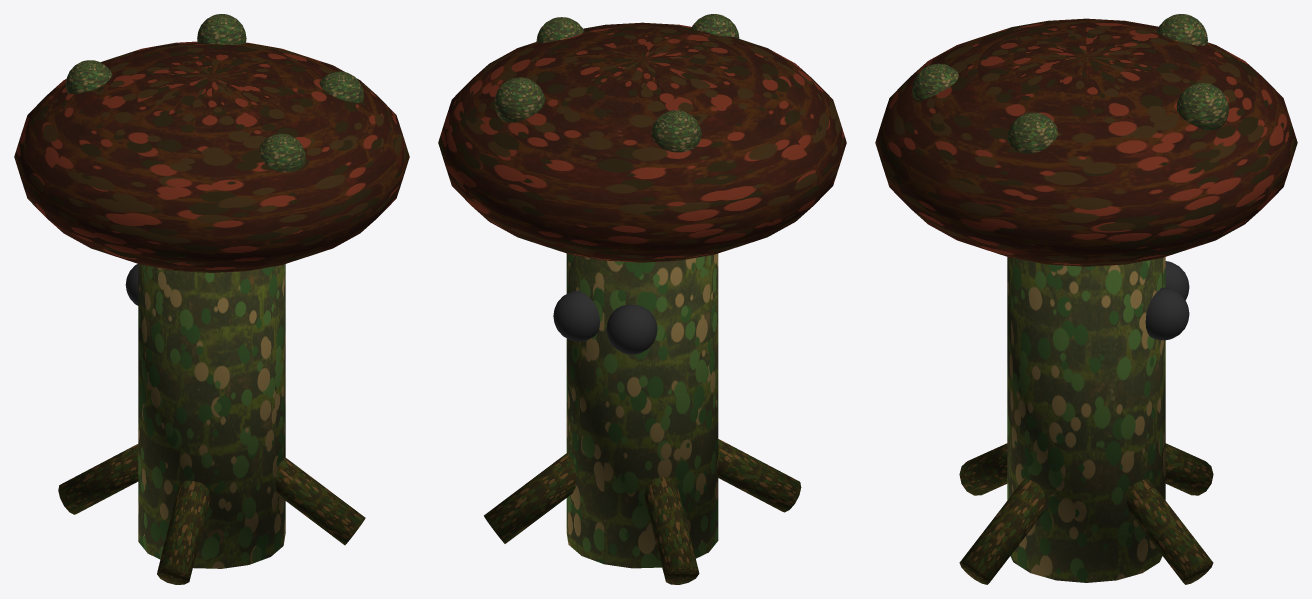
Rendered from plant-fungal-proof.glb.
3 renders of one model, left to right at view 1: azimuth 30°, elevation 25°; view 2: azimuth 150°, elevation 25°; view 3: azimuth 270°, elevation 25°, orthographic. The views are drawn at different scales.
Parts seen in each view (by area): view 1: Cap, Stem, Root.002, Root.003, Root.001, CapSpot.002, CapSpot, CapSpot.001, CapSpot.003; view 2: Cap, Stem, Root.001, Root, Root.002, Eye, Eye.001, CapSpot, CapSpot.001, CapSpot.003, CapSpot.002; view 3: Cap, Stem, Root, Root.003, CapSpot, Eye.001, Root.001, Root.002, CapSpot.003, CapSpot.002, CapSpot.001, Eye.
Boxes of the visible parts, x1=… form: Cap: x1=14, y1=41, x2=409, y2=272; Stem: x1=138, y1=264, x2=285, y2=568; Root.002: x1=157, y1=480, x2=210, y2=584; Root.003: x1=276, y1=456, x2=365, y2=545; Root.001: x1=58, y1=444, x2=138, y2=514; CapSpot.002: x1=259, y1=133, x2=305, y2=172; CapSpot: x1=197, y1=14, x2=246, y2=44; CapSpot.001: x1=65, y1=60, x2=112, y2=93; CapSpot.003: x1=319, y1=71, x2=364, y2=102; Cap: x1=438, y1=22, x2=846, y2=262; Stem: x1=566, y1=253, x2=718, y2=568; Root.001: x1=644, y1=477, x2=699, y2=584; Root: x1=484, y1=452, x2=576, y2=543; Root.002: x1=718, y1=439, x2=801, y2=512; Eye: x1=606, y1=304, x2=657, y2=354; Eye.001: x1=553, y1=291, x2=599, y2=341; CapSpot: x1=494, y1=77, x2=544, y2=122; CapSpot.001: x1=651, y1=110, x2=701, y2=152; CapSpot.003: x1=536, y1=17, x2=584, y2=42; CapSpot.002: x1=691, y1=14, x2=739, y2=38; Cap: x1=875, y1=18, x2=1297, y2=266; Stem: x1=1007, y1=257, x2=1165, y2=582; Root: x1=1127, y1=478, x2=1213, y2=584; Root.003: x1=959, y1=478, x2=1045, y2=584; CapSpot: x1=1176, y1=83, x2=1228, y2=130; Eye.001: x1=1145, y1=287, x2=1189, y2=340; Root.001: x1=1165, y1=443, x2=1213, y2=495; Root.002: x1=959, y1=443, x2=1007, y2=495; CapSpot.003: x1=1007, y1=112, x2=1057, y2=153; CapSpot.002: x1=912, y1=63, x2=958, y2=99; CapSpot.001: x1=1157, y1=14, x2=1207, y2=45; Eye: x1=1165, y1=261, x2=1189, y2=300.
Bounding box in the file's own units: 0.8 × 1.04 × 0.8.
5 materials, 4 textured.
